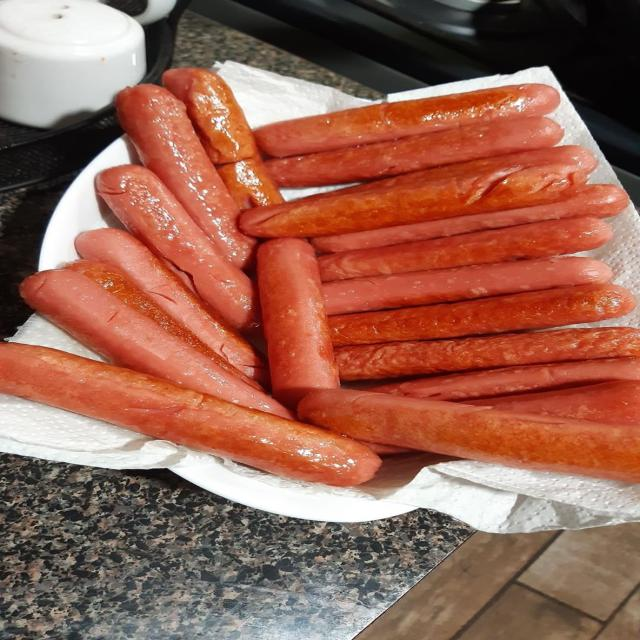sausage: (0, 343, 379, 485), (20, 270, 291, 417), (300, 390, 639, 481), (75, 229, 268, 382), (97, 165, 259, 331), (116, 85, 254, 267), (64, 260, 259, 388), (240, 165, 585, 237), (254, 84, 559, 156), (311, 185, 629, 252), (267, 117, 563, 186), (329, 284, 635, 346), (319, 218, 613, 281), (323, 256, 613, 315), (304, 146, 597, 201), (336, 327, 639, 380), (258, 239, 339, 407), (372, 358, 639, 400), (162, 68, 259, 164), (466, 381, 639, 426), (217, 158, 284, 209), (159, 257, 195, 293), (367, 443, 414, 455)
